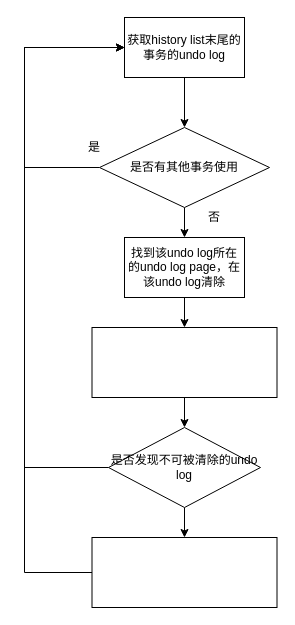
Some shapes in this 295 by 625 pixel diagram are drawn without their labels. Each missing label, with the centre of its shape:
"在该undo log page中寻找其他可以被清除的undo log，如果发现可以被清除的undo log就清除" belongs at point (184, 362).
"清除掉整个undo log page" belongs at point (184, 572).
